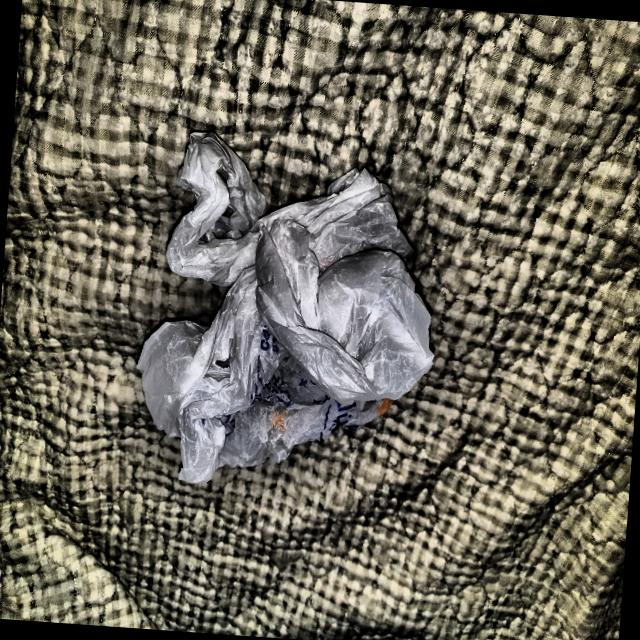plastic bag: (127, 116, 458, 514)
